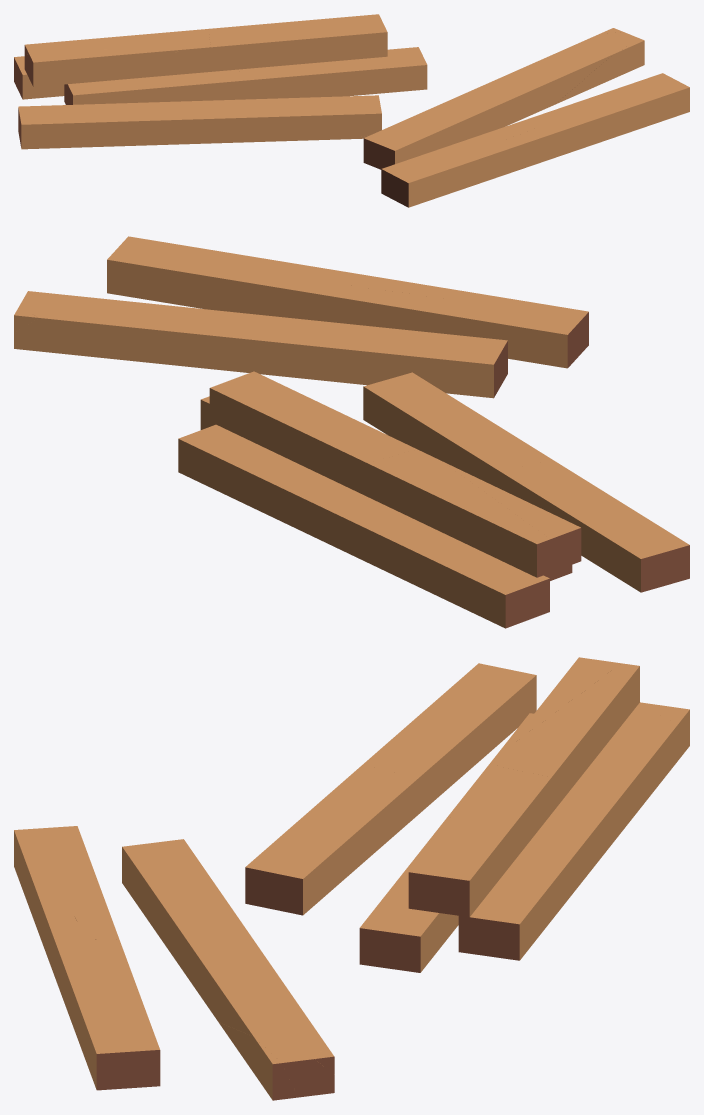
File: wood1.fbx
3 views of the same model, one above another, from view 1: azimuth 30°, elevation 25°; view 2: azimuth 150°, elevation 25°; view 3: azimuth 270°, elevation 25° (orthographic). The views are drawn at different scales.
Parts seen in each view (by area): view 1: Wood1.006_cell.001, Wood1.004_cell, Wood1.004_cell.002, Wood1.003_cell.001, Wood1.005_cell, Wood1.001_cell.002, Wood1.005_cell.001, Wood1.001_cell.001, Wood1.003_cell, Wood1.003_cell.002, Wood1.005_cell.002, Wood1.006_cell.002 (+3 smaller); view 2: Wood1.006_cell.001, Wood1.005_cell, Wood1.003_cell.001, Wood1.003_cell, Wood1.004_cell, Wood1.002_cell.002, Wood1.005_cell.002, Wood1.002_cell, Wood1.004_cell.002, Wood1.002_cell.001, Wood1.005_cell.001, Wood1.003_cell.002 (+1 smaller); view 3: Wood1.006_cell.001, Wood1.003_cell.001, Wood1.004_cell.002, Wood1.004_cell, Wood1.005_cell, Wood1.002_cell.002, Wood1.003_cell, Wood1.002_cell, Wood1.001_cell.002, Wood1.005_cell.002, Wood1.005_cell.001, Wood1.003_cell.002 (+3 smaller).
Boxes of the visible parts, left/top/right/bottom form: Wood1.006_cell.001: left=363, top=32, right=639, bottom=169; Wood1.004_cell: left=18, top=101, right=201, bottom=149; Wood1.004_cell.002: left=199, top=95, right=381, bottom=143; Wood1.003_cell.001: left=208, top=14, right=387, bottom=71; Wood1.005_cell: left=524, top=73, right=689, bottom=159; Wood1.001_cell.002: left=239, top=47, right=427, bottom=99; Wood1.005_cell.001: left=397, top=128, right=549, bottom=207; Wood1.001_cell.001: left=64, top=69, right=244, bottom=104; Wood1.003_cell: left=24, top=29, right=210, bottom=82; Wood1.003_cell.002: left=27, top=49, right=183, bottom=86; Wood1.005_cell.002: left=381, top=120, right=535, bottom=201; Wood1.006_cell.002: left=555, top=38, right=644, bottom=104; Wood1.006_cell.001: left=14, top=294, right=507, bottom=398; Wood1.005_cell: left=107, top=236, right=357, bottom=322; Wood1.003_cell.001: left=209, top=371, right=416, bottom=496; Wood1.003_cell: left=367, top=449, right=570, bottom=577; Wood1.004_cell: left=499, top=460, right=689, bottom=592; Wood1.002_cell.002: left=178, top=424, right=374, bottom=548; Wood1.005_cell.002: left=334, top=285, right=583, bottom=368; Wood1.002_cell: left=338, top=500, right=549, bottom=605; Wood1.004_cell.002: left=363, top=372, right=552, bottom=487; Wood1.002_cell.001: left=459, top=580, right=549, bottom=628; Wood1.005_cell.001: left=348, top=274, right=588, bottom=354; Wood1.003_cell.002: left=443, top=461, right=581, bottom=564; Wood1.006_cell.001: left=122, top=839, right=334, bottom=1097; Wood1.003_cell.001: left=408, top=765, right=551, bottom=917; Wood1.004_cell.002: left=245, top=764, right=417, bottom=897; Wood1.004_cell: left=364, top=663, right=536, bottom=815; Wood1.005_cell: left=55, top=939, right=160, bottom=1090; Wood1.002_cell.002: left=458, top=813, right=603, bottom=960; Wood1.003_cell: left=494, top=663, right=639, bottom=813; Wood1.002_cell: left=552, top=704, right=677, bottom=854; Wood1.001_cell.002: left=359, top=817, right=458, bottom=969; Wood1.005_cell.002: left=31, top=826, right=118, bottom=939; Wood1.005_cell.001: left=14, top=829, right=86, bottom=978; Wood1.003_cell.002: left=506, top=657, right=620, bottom=748.
Bounding box in the file's own units: 4.31 × 6.04 × 0.5304.
